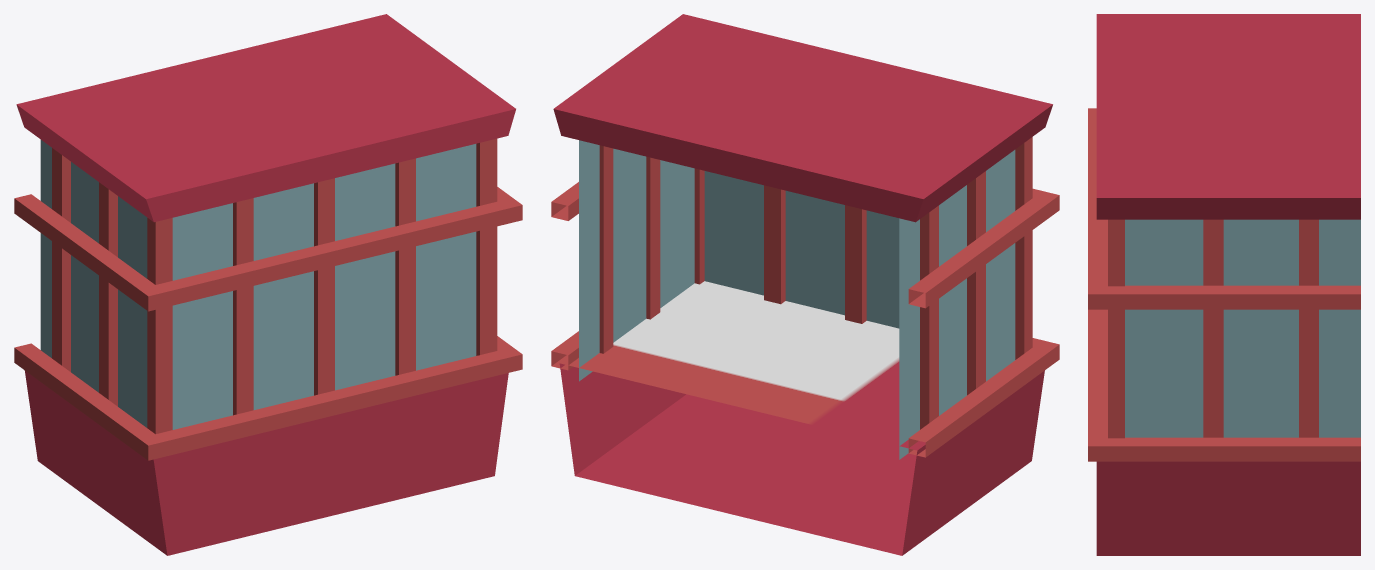
Rendered from House (Balcony 1).fbx.
3 views of the same model, side by side, from view 1: azimuth 30°, elevation 25°; view 2: azimuth 150°, elevation 25°; view 3: azimuth 270°, elevation 25° (orthographic).
Visible parts, largest first — view 1: House (Balcony 1); view 2: House (Balcony 1); view 3: House (Balcony 1).
Part boxes in pixels (box(x1,y1,x2,y2)): House (Balcony 1): box(14, 14, 522, 555); House (Balcony 1): box(551, 14, 1059, 555); House (Balcony 1): box(1088, 14, 1360, 555).
Bounding box in the file's own units: 778 × 719 × 482.
